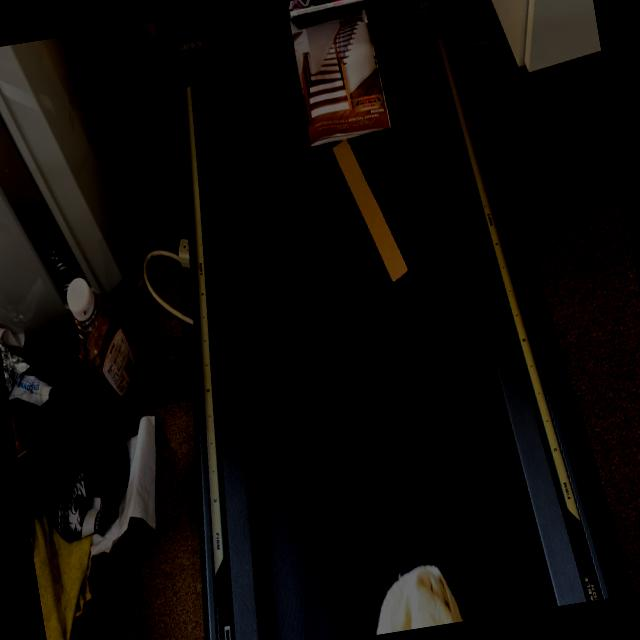Recycle: (288, 0, 392, 141), (328, 131, 412, 291)
